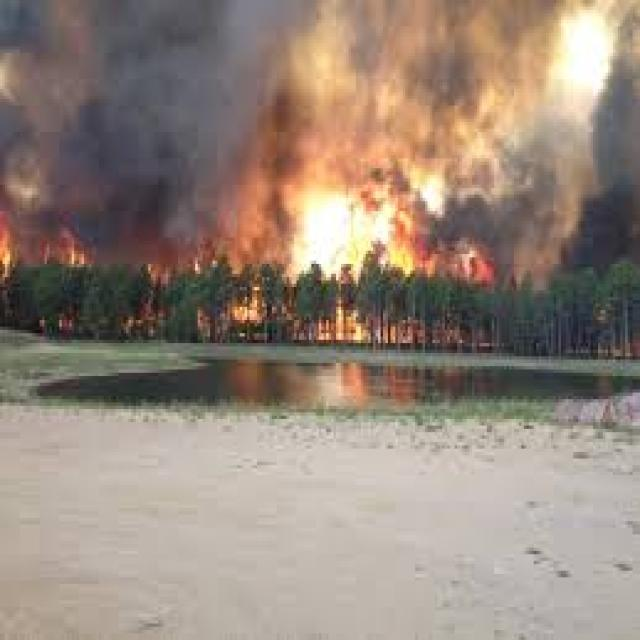Fire: (218, 140, 506, 318), (0, 204, 183, 325)
Smoke: (227, 0, 640, 144), (0, 0, 221, 193)
